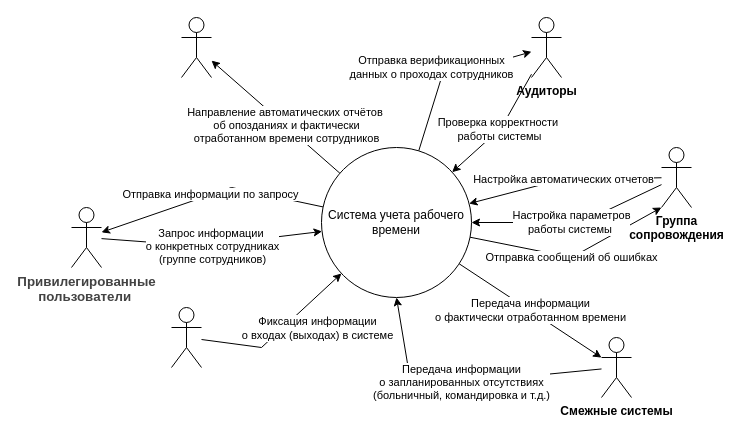
Image size: 741x436. Some labels were removed from this diagram. The shapes that lost their labels are listed below. From the top down, each one's box as (x1, y1, x2, y2) in pixels, then its label:
(180, 16, 212, 78): Пользователи
(170, 306, 202, 368): Поставщики данных
